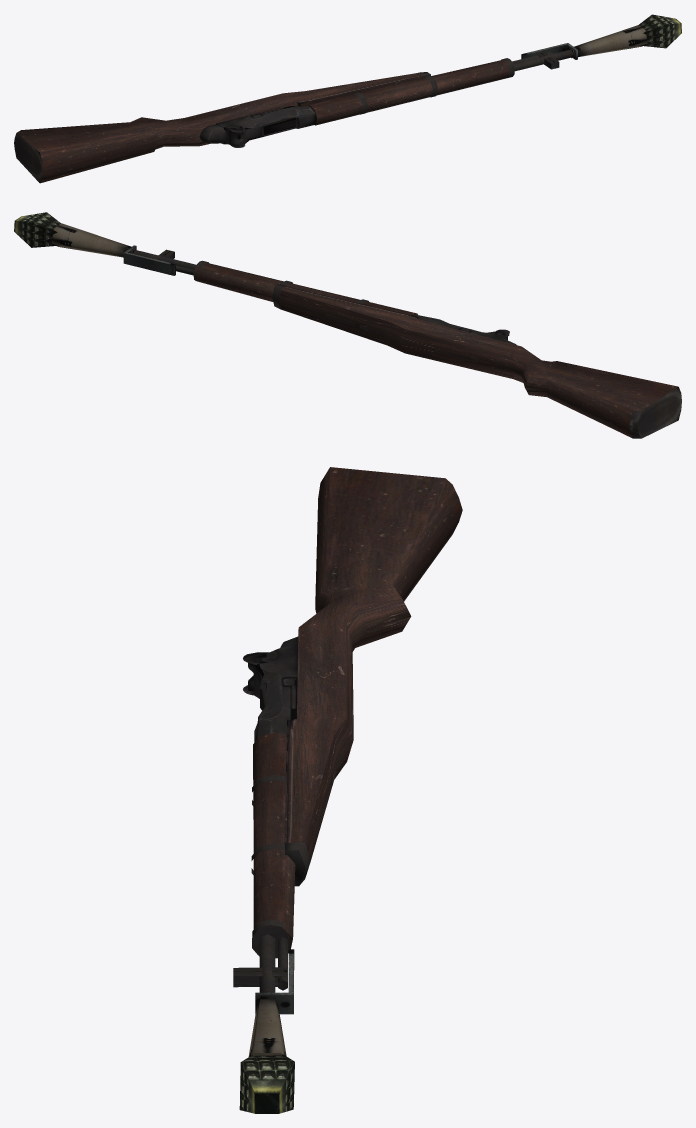
File: weapon_usa_m1garand_rifle_grenade_LOD21.obj
3 views of the same model, one above another, from view 1: azimuth 30°, elevation 25°; view 2: azimuth 150°, elevation 25°; view 3: azimuth 270°, elevation 25° (orthographic). The views are drawn at different scales.
Parts seen in each view (by area): view 1: TomGroup_3, TomGroup_0, TomGroup_1, TomGroup_2; view 2: TomGroup_3, TomGroup_1, TomGroup_0, TomGroup_2; view 3: TomGroup_3, TomGroup_0, TomGroup_2, TomGroup_1.
Part boxes in pixels (left/top/right/bottom): TomGroup_3: left=14, top=60, right=512, bottom=183; TomGroup_0: left=199, top=49, right=572, bottom=147; TomGroup_1: left=521, top=25, right=647, bottom=59; TomGroup_2: left=639, top=14, right=681, bottom=48; TomGroup_3: left=193, top=262, right=681, bottom=438; TomGroup_1: left=51, top=223, right=175, bottom=275; TomGroup_0: left=133, top=249, right=516, bottom=344; TomGroup_2: left=14, top=212, right=60, bottom=247; TomGroup_3: left=253, top=467, right=462, bottom=958; TomGroup_0: left=233, top=636, right=310, bottom=992; TomGroup_2: left=239, top=1054, right=294, bottom=1113; TomGroup_1: left=248, top=949, right=294, bottom=1056.
Size of the model in its own units: 133 by 6.31 by 21.13.
Materials: 4 (4 with a texture image).
